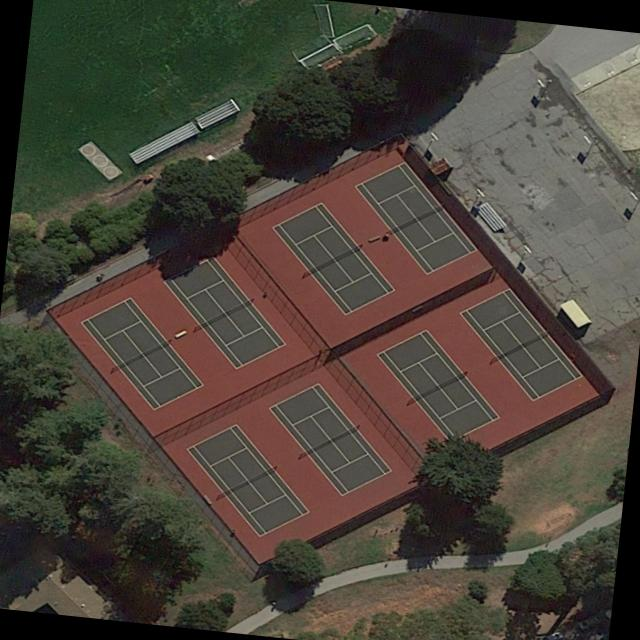small-vehicle: (535, 630, 562, 640)
